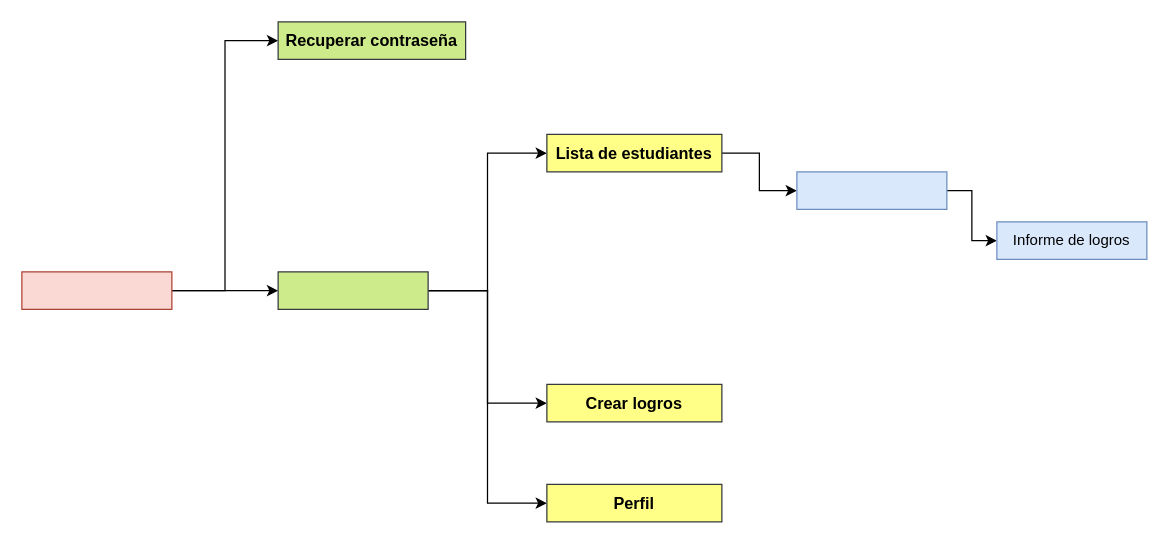
Some shapes in this 1169 by 544 pixel diagram are drawn without their labels. Here are the shapes that lost their labels. From the top down, the centre of each, then its label:
pixel 871 190: Calificar estudiante
pixel 96 290: Inicio de sesión
pixel 352 290: Inicio
